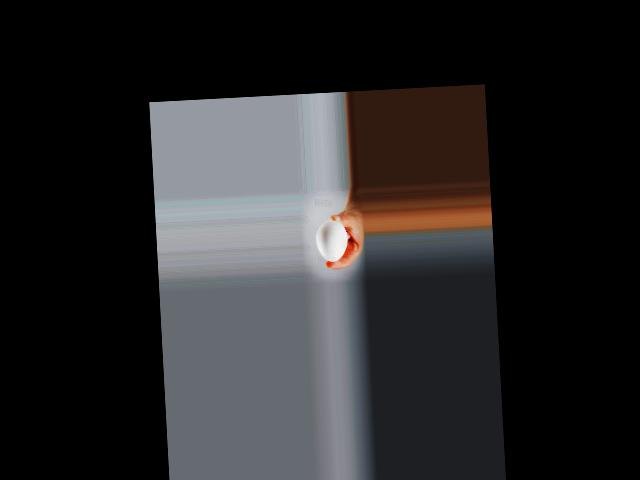egg: (315, 220, 349, 262)
